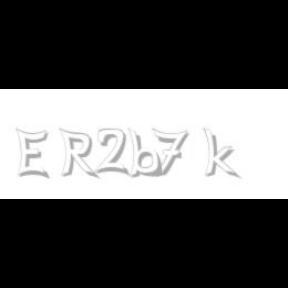2: (94, 128, 128, 176)
7: (152, 128, 190, 178)
E: (15, 128, 48, 180)
R: (59, 128, 97, 180)
b: (127, 128, 165, 178)
k: (203, 128, 241, 180)
